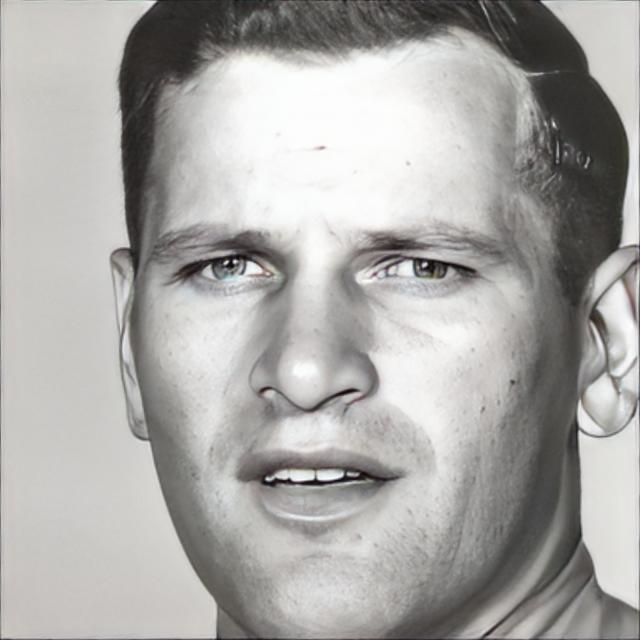disgust: (132, 27, 576, 639)
